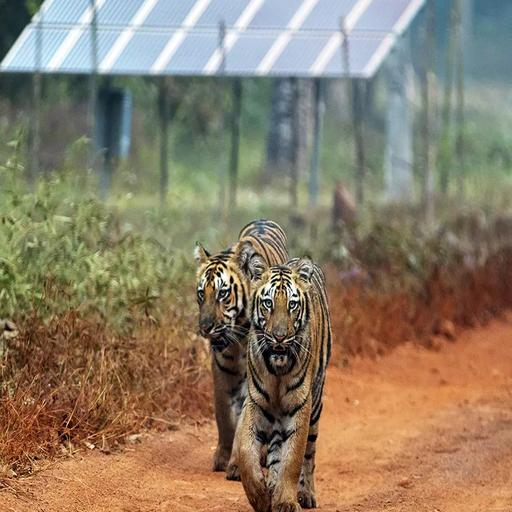Tiger: (185, 214, 323, 489), (229, 253, 339, 512)
